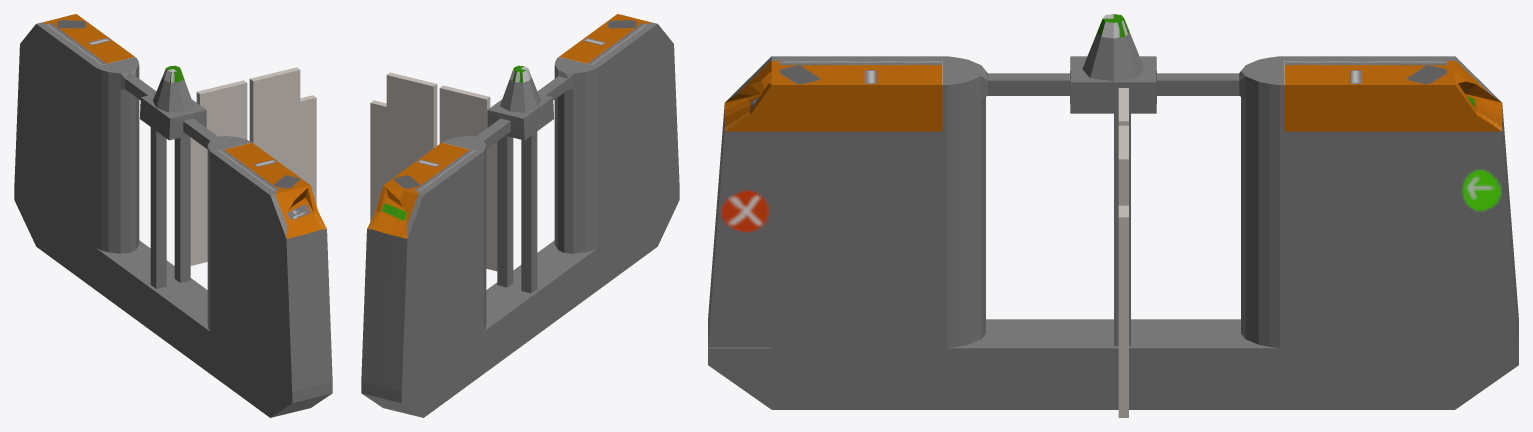
File: depart_gate_block_right_closed.obj
3 renders of one model, left to right at view 1: azimuth 30°, elevation 25°; view 2: azimuth 150°, elevation 25°; view 3: azimuth 270°, elevation 25°, orthographic. The views are drawn at different scales.
Parts seen in each view (by area): view 1: cube; view 2: cube; view 3: cube.
Boxes of the visible parts, box(x1,y1,x2,y2) form: cube: box(14, 14, 332, 417); cube: box(361, 14, 679, 417); cube: box(708, 14, 1518, 417).
Size of the model in its own units: 1.02 by 1.52 by 2.97.
